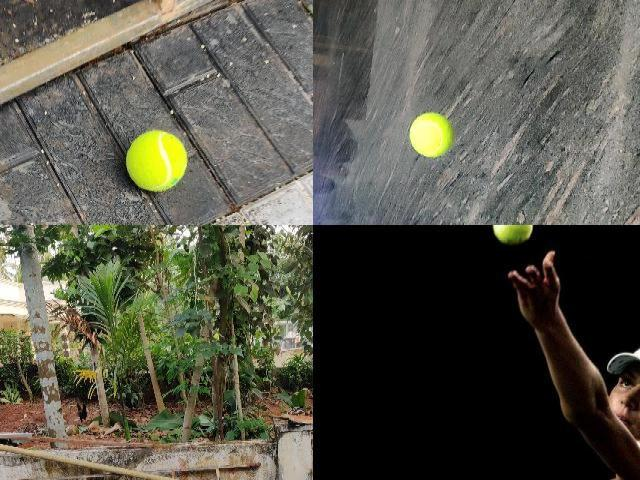tennis-ball: (125, 130, 187, 192), (408, 112, 454, 158), (492, 225, 533, 246)
